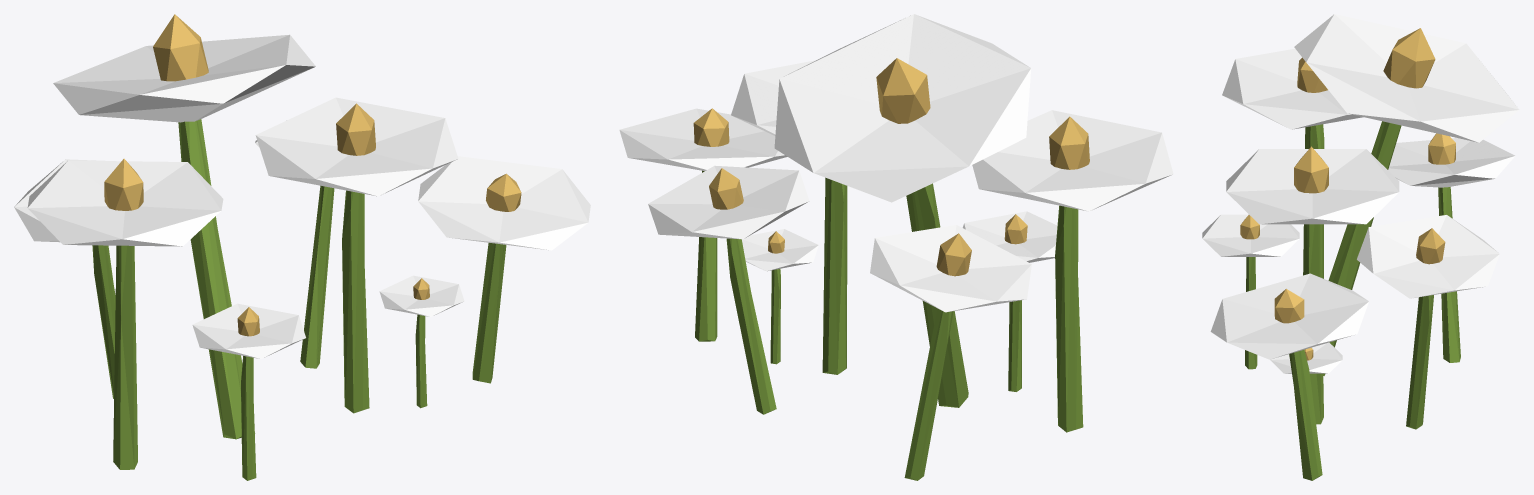
The model's file is Flower_02.glb.
3 renders of one model, left to right at view 1: azimuth 30°, elevation 25°; view 2: azimuth 150°, elevation 25°; view 3: azimuth 270°, elevation 25°, orthographic. The views are drawn at different scales.
Parts seen in each view (by area): view 1: Flower_02_LOD0; view 2: Flower_02_LOD0; view 3: Flower_02_LOD0.
Boxes of the visible parts, left/top/right/bottom form: Flower_02_LOD0: left=14, top=14, right=590, bottom=480; Flower_02_LOD0: left=619, top=14, right=1173, bottom=480; Flower_02_LOD0: left=1202, top=14, right=1519, bottom=480.
Size of what is drawn, in the model's own units: 0.2429 by 0.172 by 0.1418.
1 material, 1 textured.
